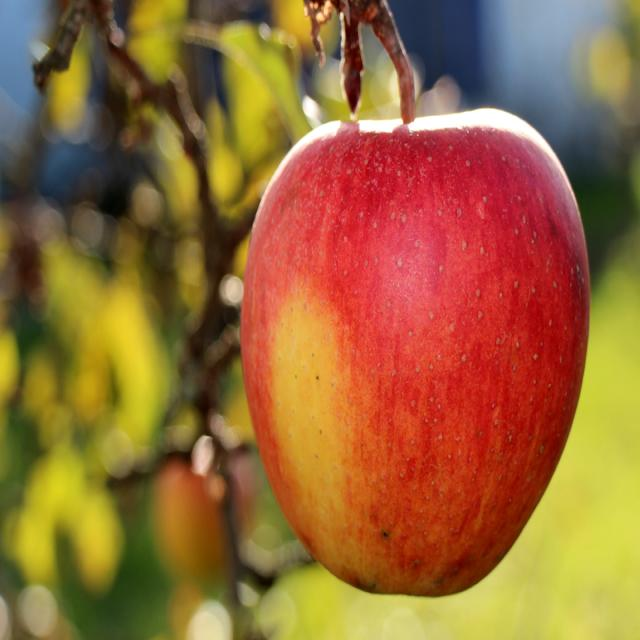apple: (236, 72, 596, 598)
